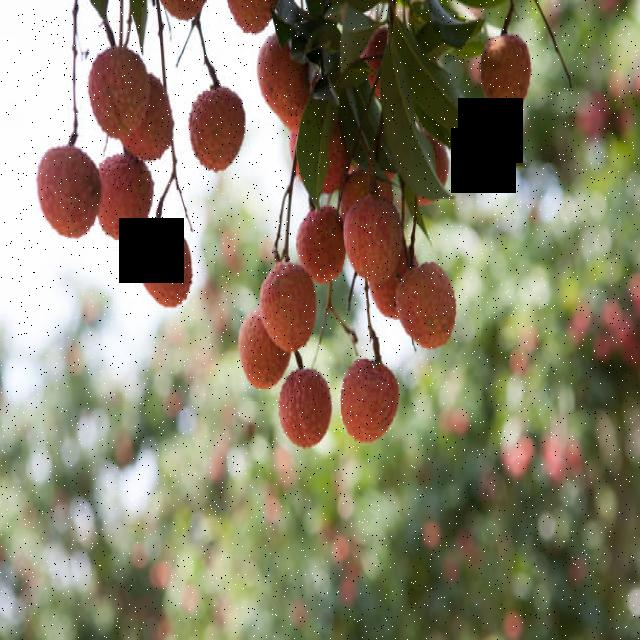lychee: (243, 192, 437, 445)
